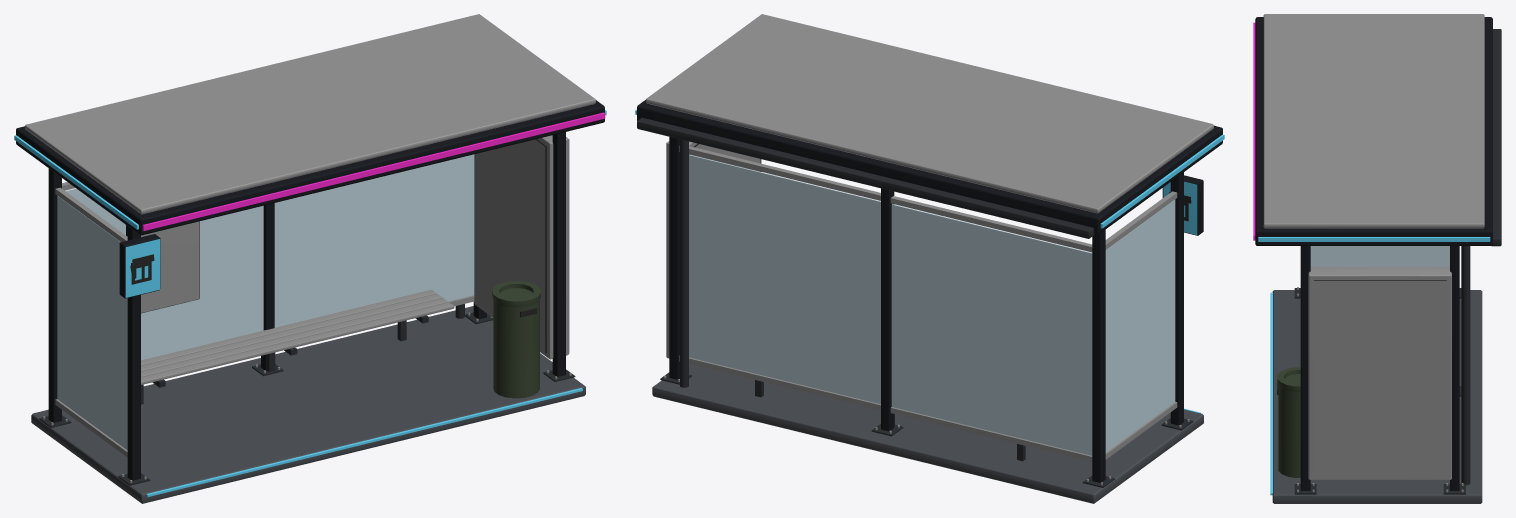
The model's file is Bus_Shelter_Neon.fbx.
3 views of the same model, side by side, from view 1: azimuth 30°, elevation 25°; view 2: azimuth 150°, elevation 25°; view 3: azimuth 270°, elevation 25° (orthographic). The views are drawn at different scales.
Visible parts, largest first — view 1: Bus_Shelter_Neon_LOD0; view 2: Bus_Shelter_Neon_LOD0; view 3: Bus_Shelter_Neon_LOD0.
Part boxes in pixels (x1,y1,x2,y2): Bus_Shelter_Neon_LOD0: [14, 14, 606, 503]; Bus_Shelter_Neon_LOD0: [635, 14, 1224, 503]; Bus_Shelter_Neon_LOD0: [1253, 14, 1501, 503].
Size of what is drawn, in the model's own units: 4.64 by 2.83 by 2.25.
